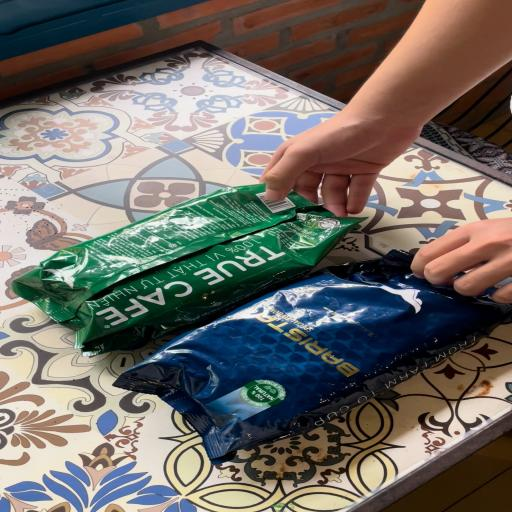cafe_hat: (114, 250, 512, 463)
cafe_xay: (11, 183, 362, 354)
